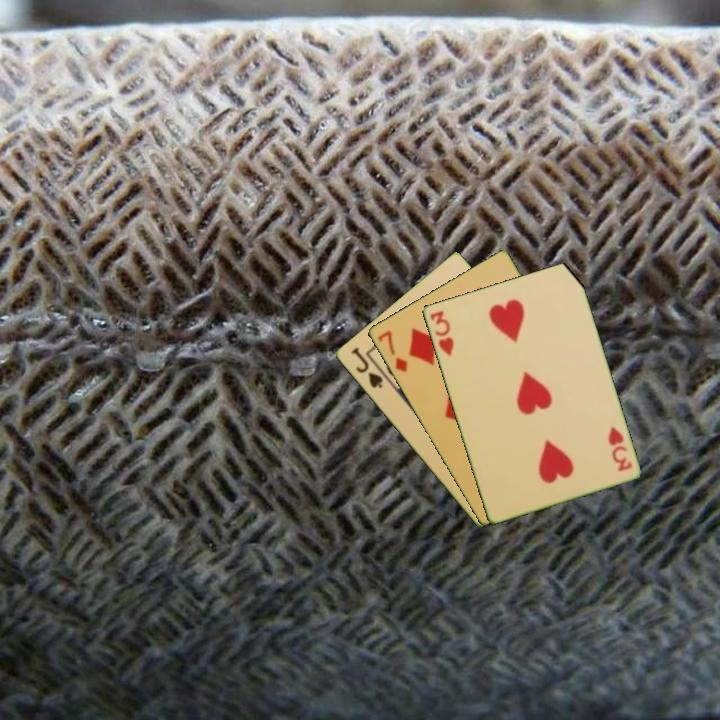3h: (426, 307, 456, 359), (604, 423, 634, 474)
7d: (374, 327, 410, 375)
Js: (347, 343, 386, 391)
